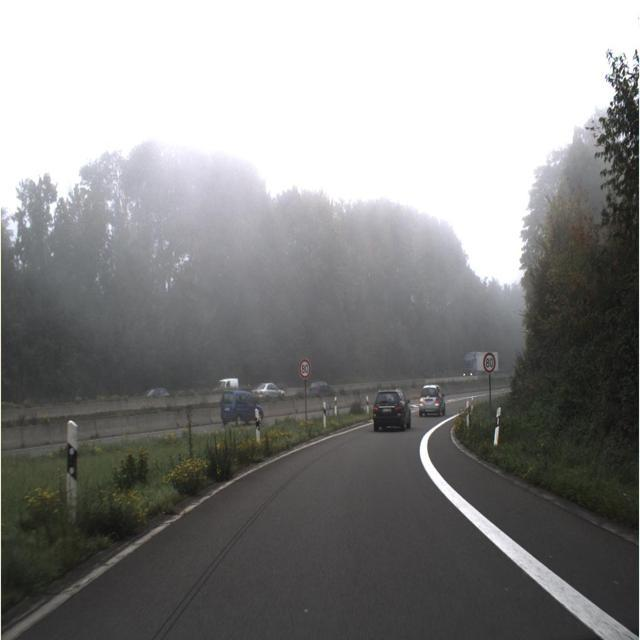forb_speed_over_80: (482, 351, 496, 375), (299, 358, 311, 380)
